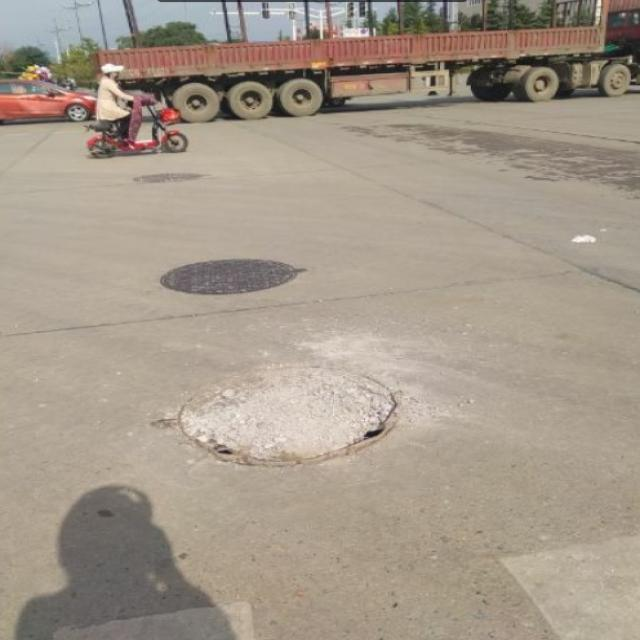Faulty: (175, 359, 448, 476)
Good: (150, 248, 310, 302), (125, 164, 208, 186)
